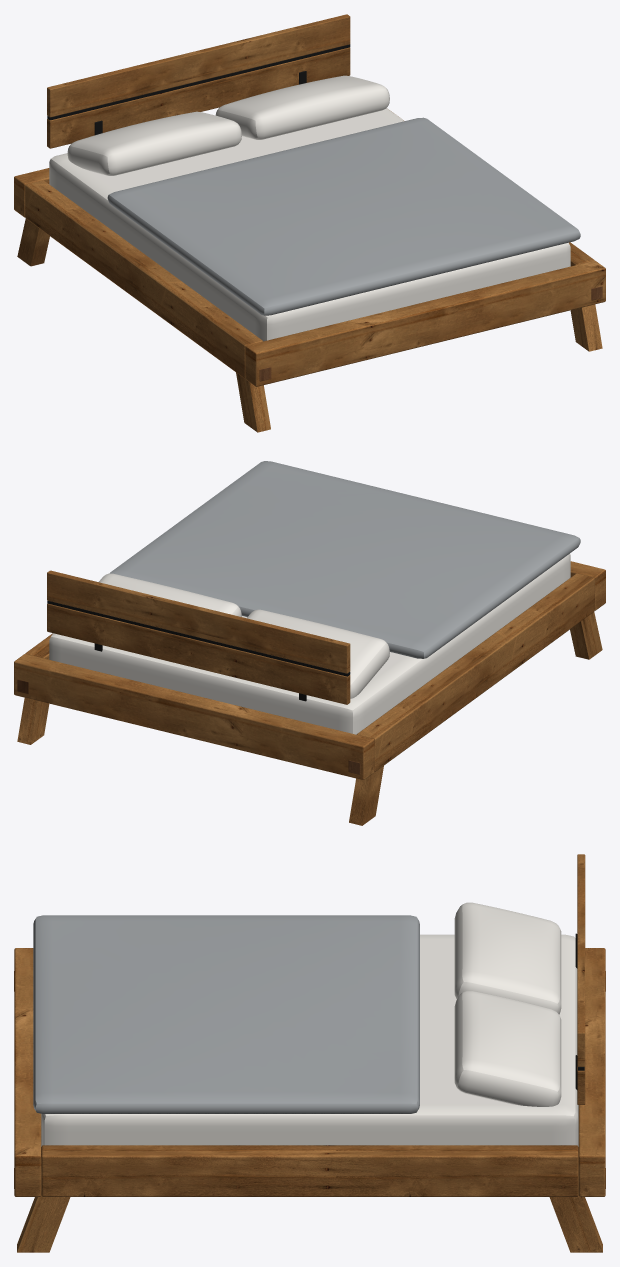
File: bed-petra.glb
3 views of the same model, one above another, from view 1: azimuth 30°, elevation 25°; view 2: azimuth 150°, elevation 25°; view 3: azimuth 270°, elevation 25° (orthographic). The views are drawn at different scales.
Bounding box in the file's own units: 1.82 × 0.8399 × 2.18.
5 materials, 2 textured.
